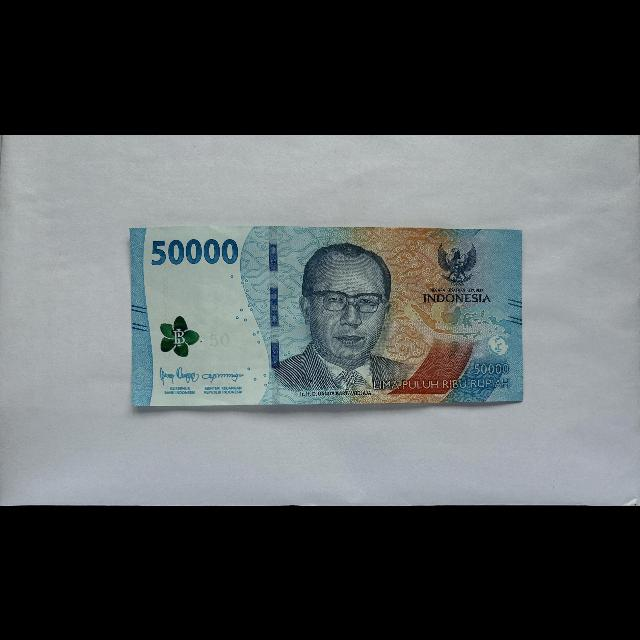Asli-50k: (129, 224, 526, 408)
Tinta-Asli-50k: (160, 314, 200, 357)
